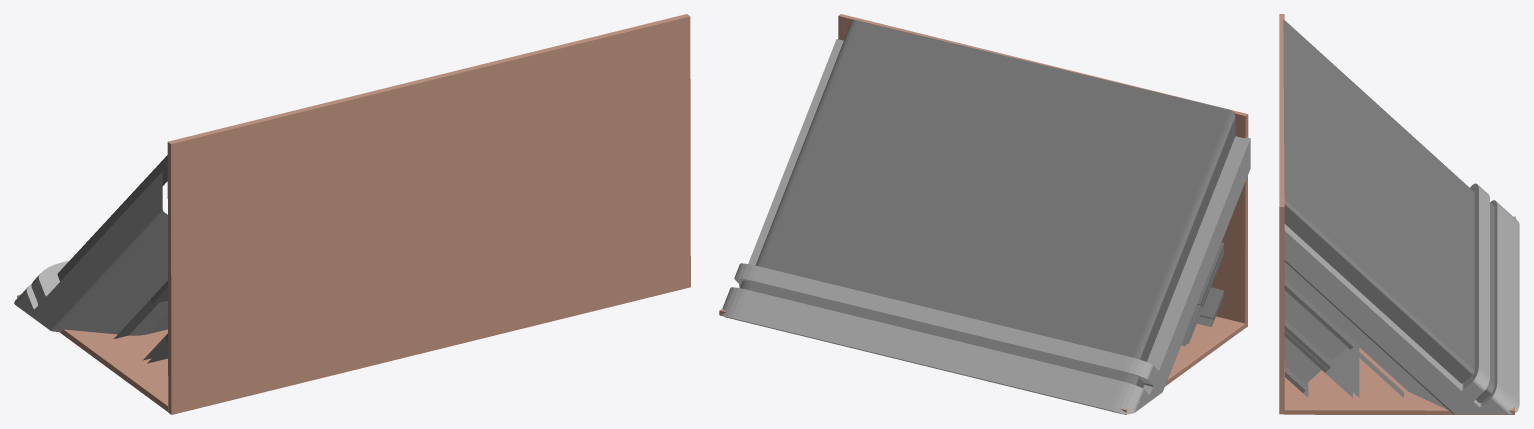
The model's file is HaflSlopeArmorBlock.glb.
The picture shows the model from 3 angles, left to right: view 1: azimuth 30°, elevation 25°; view 2: azimuth 150°, elevation 25°; view 3: azimuth 270°, elevation 25°; orthographic projection. The views are drawn at different scales.
Parts seen in each view (by area): view 1: Component#168; view 2: Component#168; view 3: Component#168.
Boxes of the visible parts, x1,y1,x2,y2 form: Component#168: [14, 14, 690, 414]; Component#168: [719, 14, 1250, 414]; Component#168: [1279, 14, 1519, 414].
Size of the model in its own units: 6.3 by 3.12 by 3.25.
